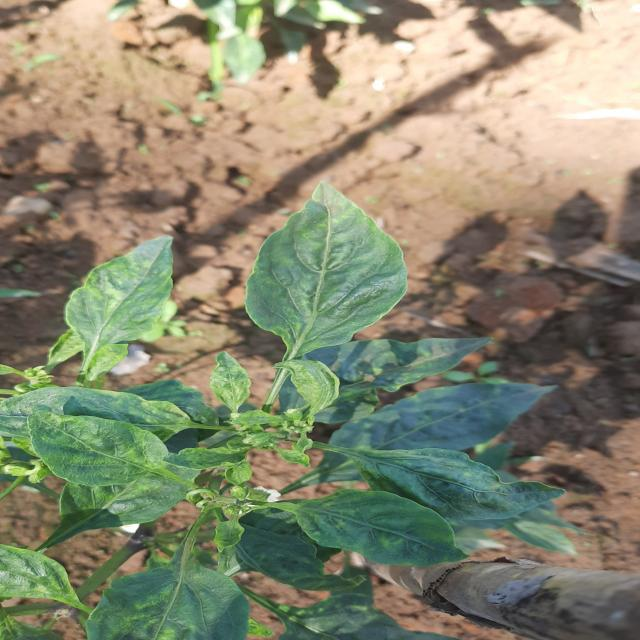thrips: (250, 176, 418, 349), (51, 229, 202, 352), (20, 419, 196, 509)
